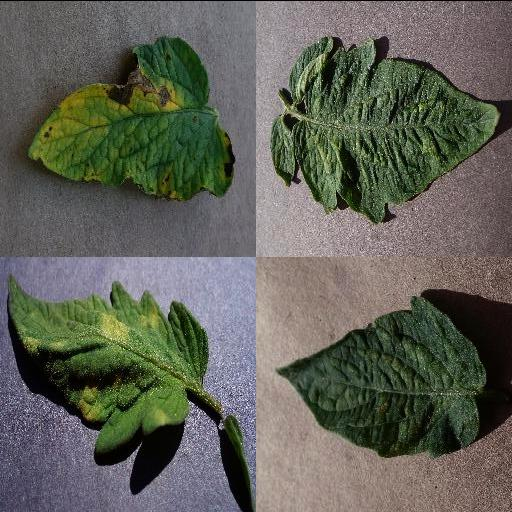Early Blight: (25, 35, 235, 198)
Leaf Mold: (6, 275, 210, 453)
Spider Mites: (270, 35, 500, 225), (274, 295, 488, 457)
